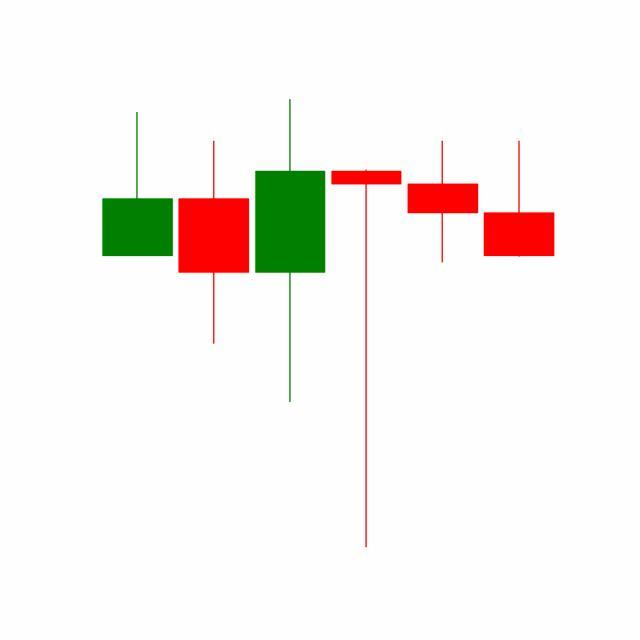Spinning Top: (404, 140, 482, 265)
